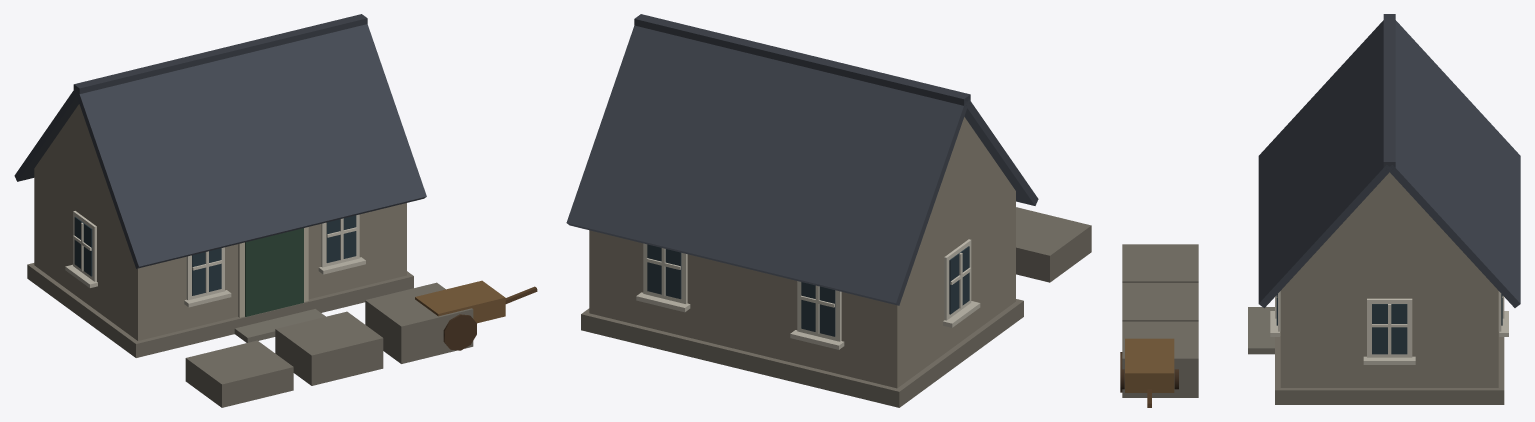
The model's file is procedural_road_depot@3.glb.
The picture shows the model from 3 angles, left to right: view 1: azimuth 30°, elevation 25°; view 2: azimuth 150°, elevation 25°; view 3: azimuth 270°, elevation 25°; orthographic projection. The views are drawn at different scales.
Visible parts, largest first — view 1: part_0; view 2: part_0; view 3: part_0.
Boxes of the visible parts, x1,y1,x2,y2 form: part_0: [14, 14, 537, 407]; part_0: [566, 14, 1091, 407]; part_0: [1120, 14, 1520, 407].
Size of the model in its own units: 7.71 by 4.97 by 7.34.
